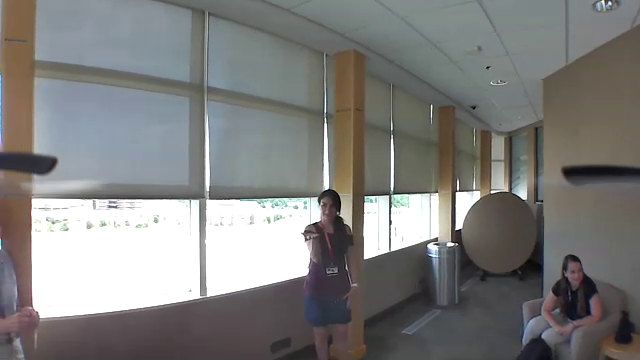land: (300, 229, 325, 244)
